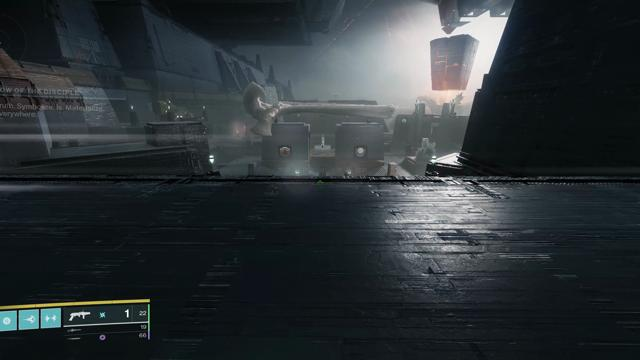pyramid: (280, 146, 290, 158)
traveler: (355, 146, 366, 158)
